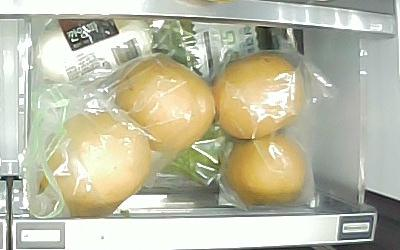pear_vinyl: (40, 113, 153, 218), (116, 56, 214, 151), (214, 52, 307, 139), (226, 136, 309, 208)
